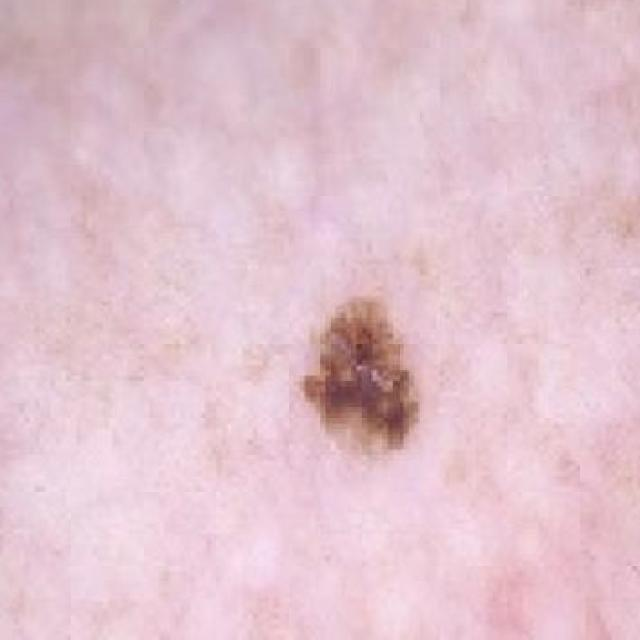BKL: (187, 265, 533, 504)
